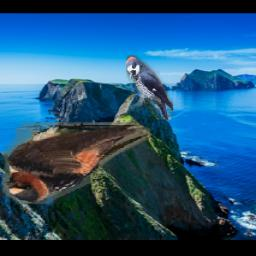Swallow: (4, 122, 151, 204)
Woodpecker: (127, 56, 174, 120)
